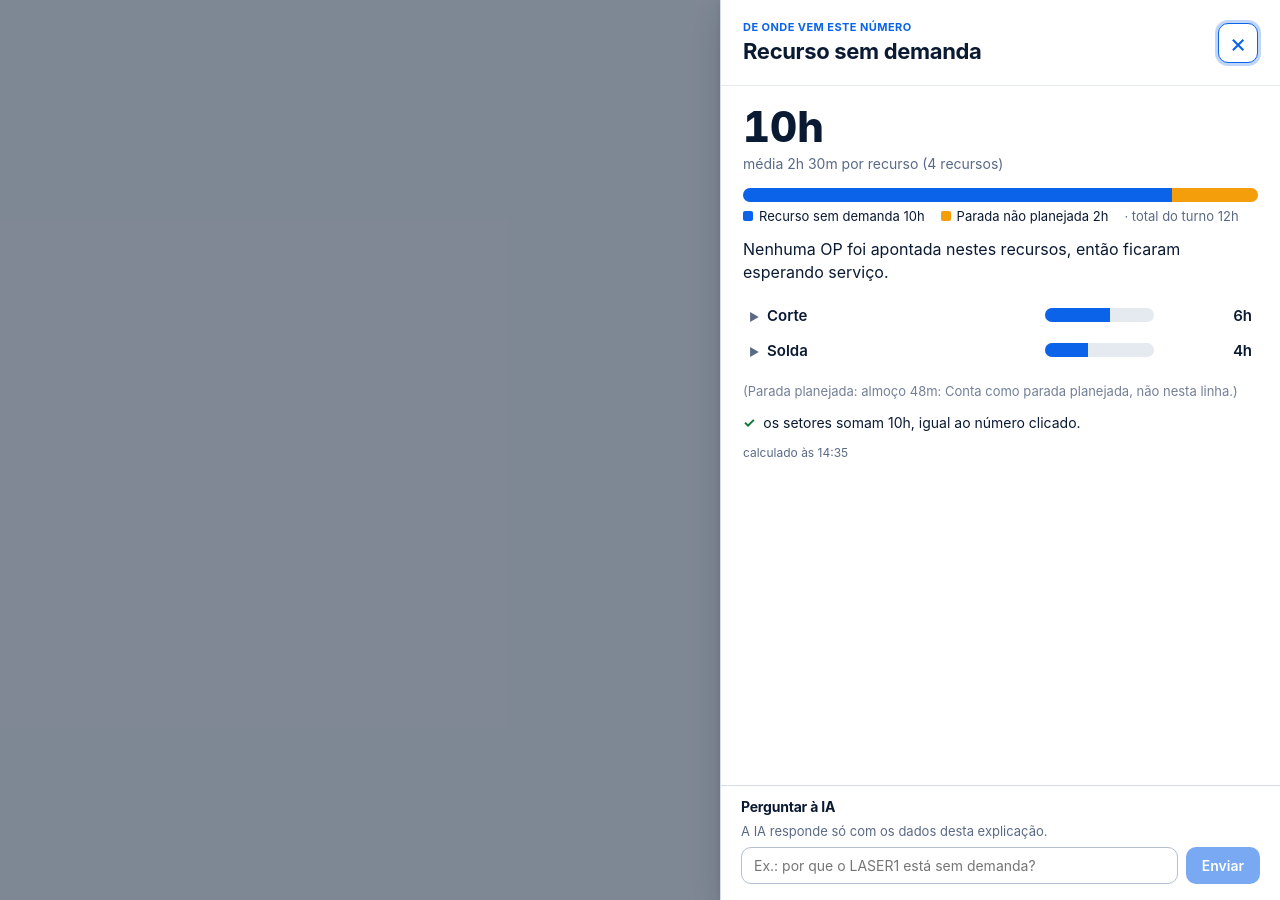
it: MetricExplanationPanel chat › 429 mostra 'Limite temporário da IA' e mantém o painel aberto
Expected: the text "10h" is shown, [743,101,824,152]
Type "e agora?" into the field named "Pergunta para a IA" at [959, 866], box [741,847,1178,884]
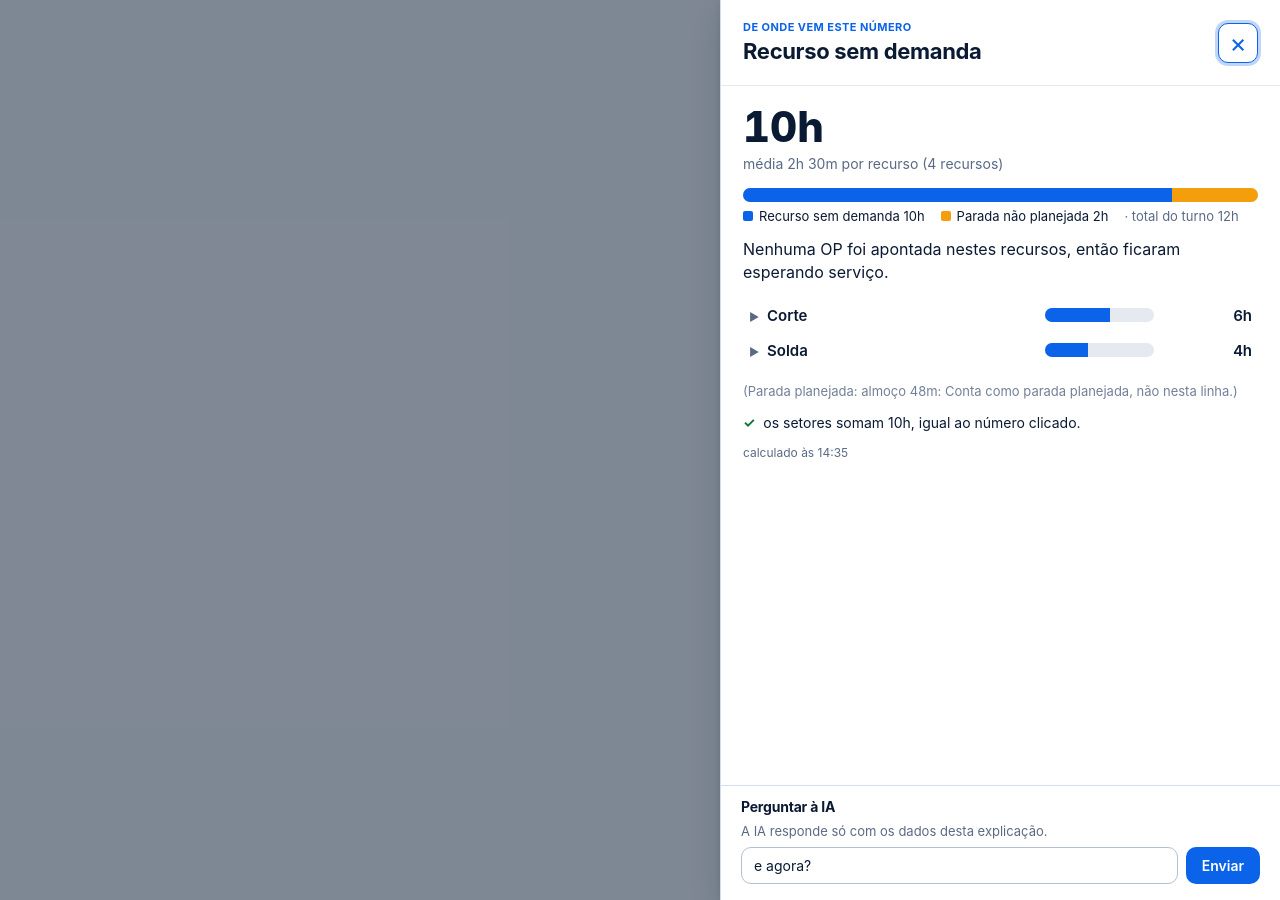
Click the button "Enviar" at [1223, 866], box [1186,847,1260,884]
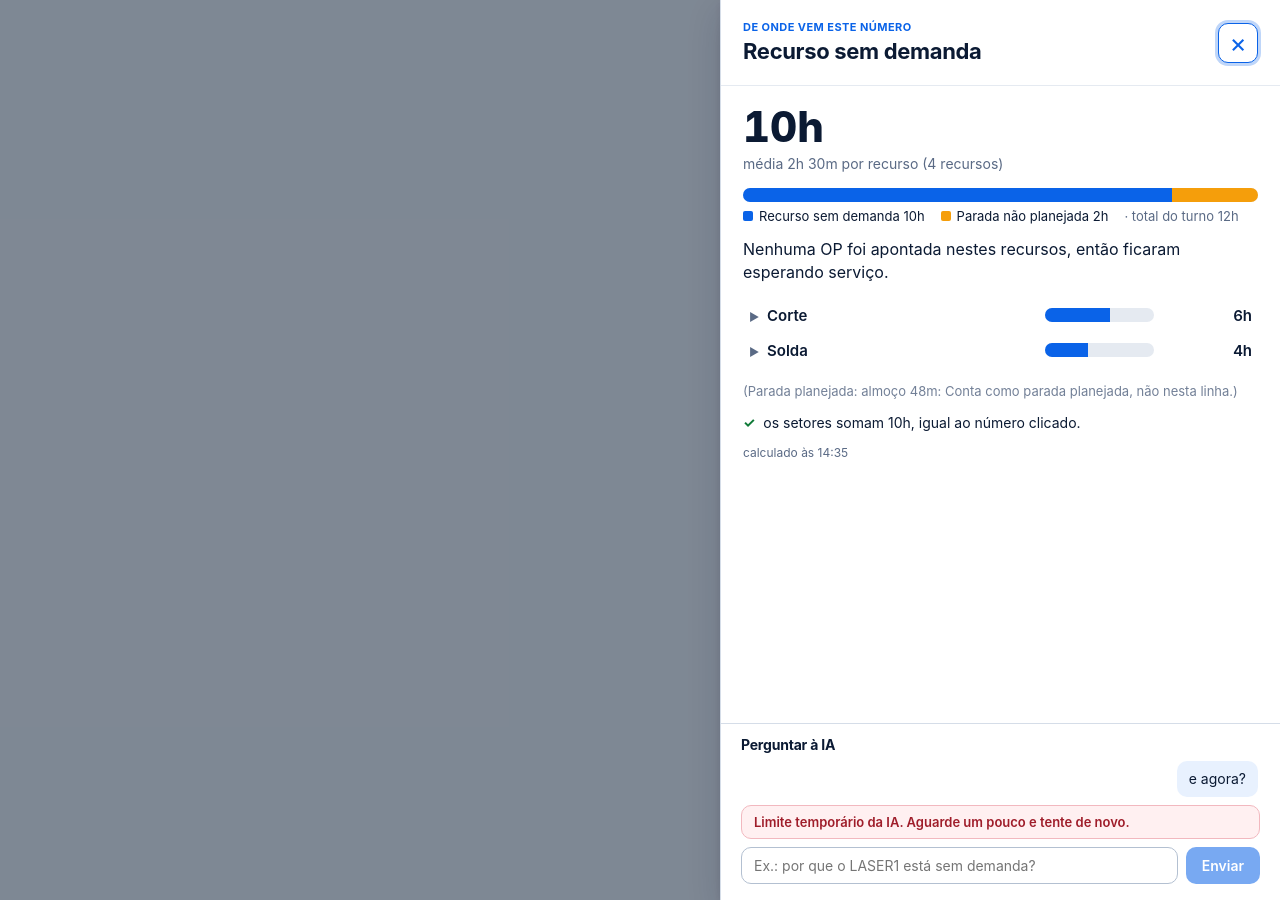
Expected: the dialog is shown, [720,0,1279,899]
Expected: the text "Limite temporário da IA. Aguarde um pouco e tente de novo." is shown, [741,805,1260,839]
